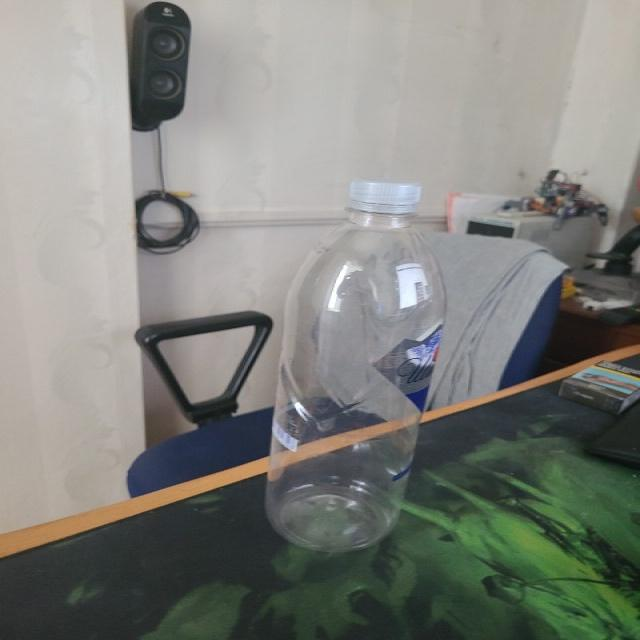plastic_bottle: (265, 179, 447, 552)
